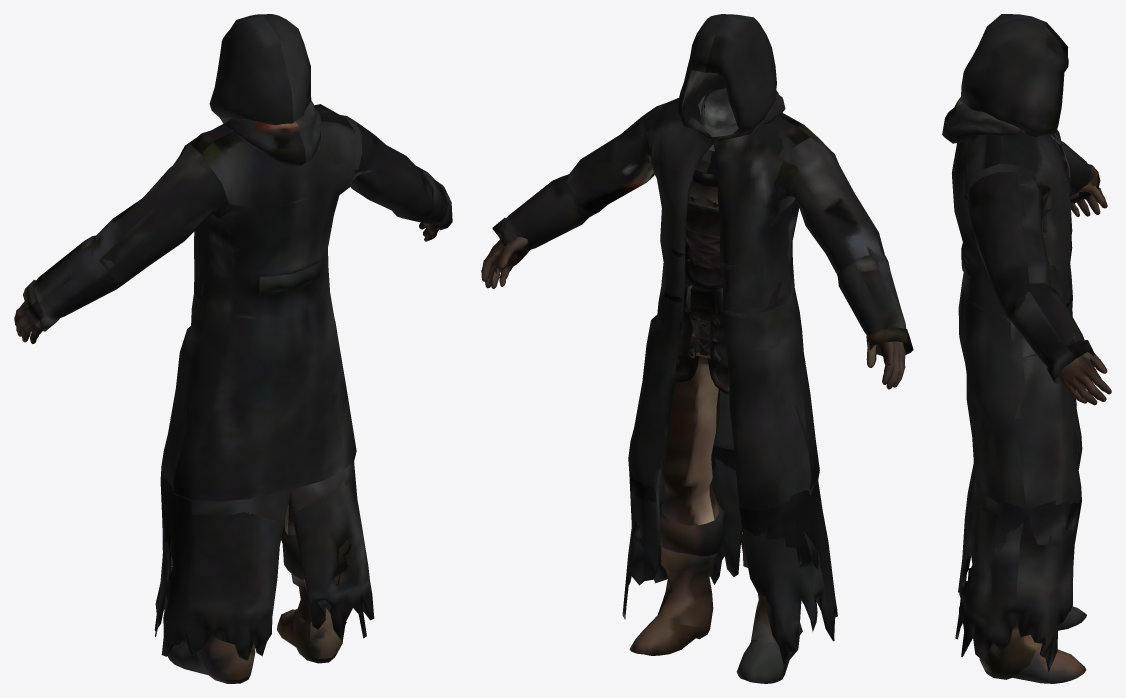
3 renders of one model, left to right at view 1: azimuth 30°, elevation 25°; view 2: azimuth 150°, elevation 25°; view 3: azimuth 270°, elevation 25°, orthographic. The views are drawn at different scales.
Visible parts, largest first — view 1: mesh_0; view 2: mesh_0; view 3: mesh_0.
Part boxes in pixels (x1,y1,x2,y2): mesh_0: (14, 14, 452, 683); mesh_0: (481, 14, 913, 683); mesh_0: (942, 14, 1111, 683).
Bounding box in the file's own units: 50.04 × 73.48 × 17.88.
1 material, 1 textured.
